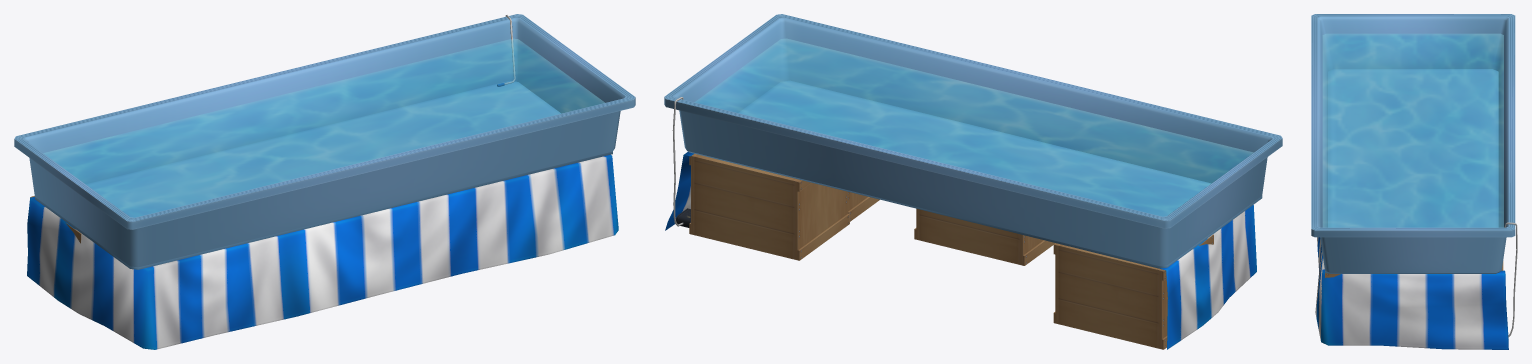
Rendered from jsf_Aquarium_01.fbx.
3 renders of one model, left to right at view 1: azimuth 30°, elevation 25°; view 2: azimuth 150°, elevation 25°; view 3: azimuth 270°, elevation 25°, orthographic. The views are drawn at different scales.
Visible parts, largest first — view 1: Aquarium, BlindfoldCloth_01, Watersurface; view 2: Aquarium, Watersurface, WoodenBox_01, WoodenBox_05, BlindfoldCloth_01, WoodenBox_02, Airpump, WoodenBox_03; view 3: Aquarium, Watersurface, BlindfoldCloth_01, Airpump.
Boxes of the visible parts, x1,y1,x2,y2 form: Aquarium: [14, 14, 635, 269]; BlindfoldCloth_01: [27, 154, 618, 349]; Watersurface: [43, 38, 604, 217]; Aquarium: [664, 14, 1282, 268]; Watersurface: [694, 38, 1253, 216]; WoodenBox_01: [689, 153, 849, 260]; WoodenBox_05: [1053, 234, 1213, 349]; BlindfoldCloth_01: [665, 152, 1256, 349]; WoodenBox_02: [914, 208, 1054, 265]; Airpump: [672, 97, 690, 227]; WoodenBox_03: [848, 192, 879, 221]; Aquarium: [1311, 14, 1515, 273]; Watersurface: [1322, 33, 1503, 227]; BlindfoldCloth_01: [1315, 237, 1508, 349]; Airpump: [1504, 222, 1517, 337].
Bounding box in the file's own units: 201 × 52.25 × 80.91.
